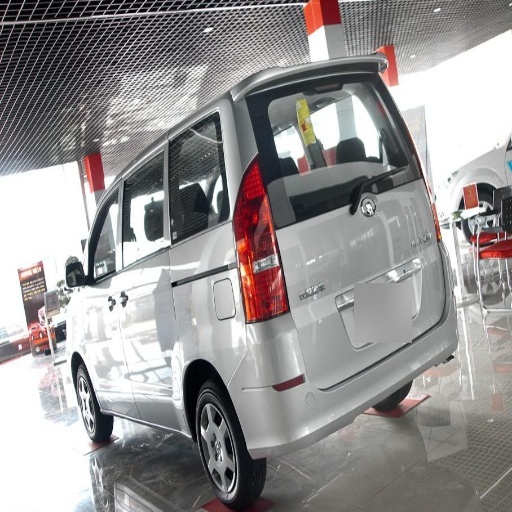back_bumper: (222, 315, 459, 466)
back_left_light: (231, 170, 289, 322)
tailgate: (264, 180, 440, 353)
trunk: (281, 177, 443, 316), (135, 256, 217, 362)
